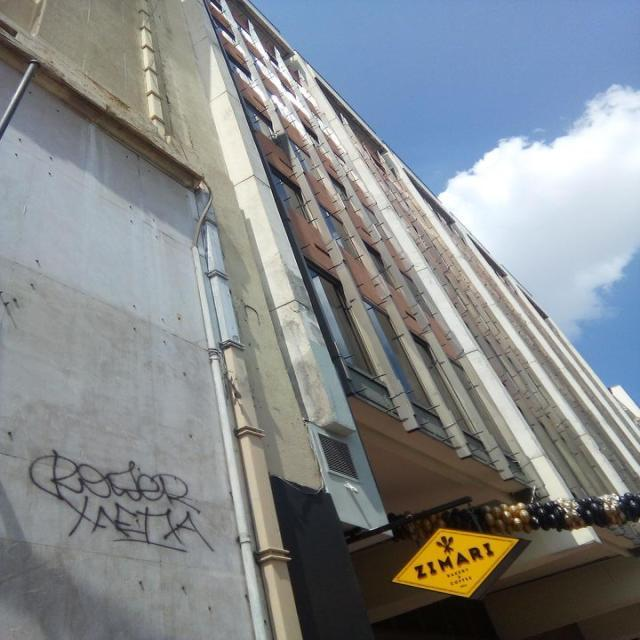nonspitting: (28, 448, 215, 555)
